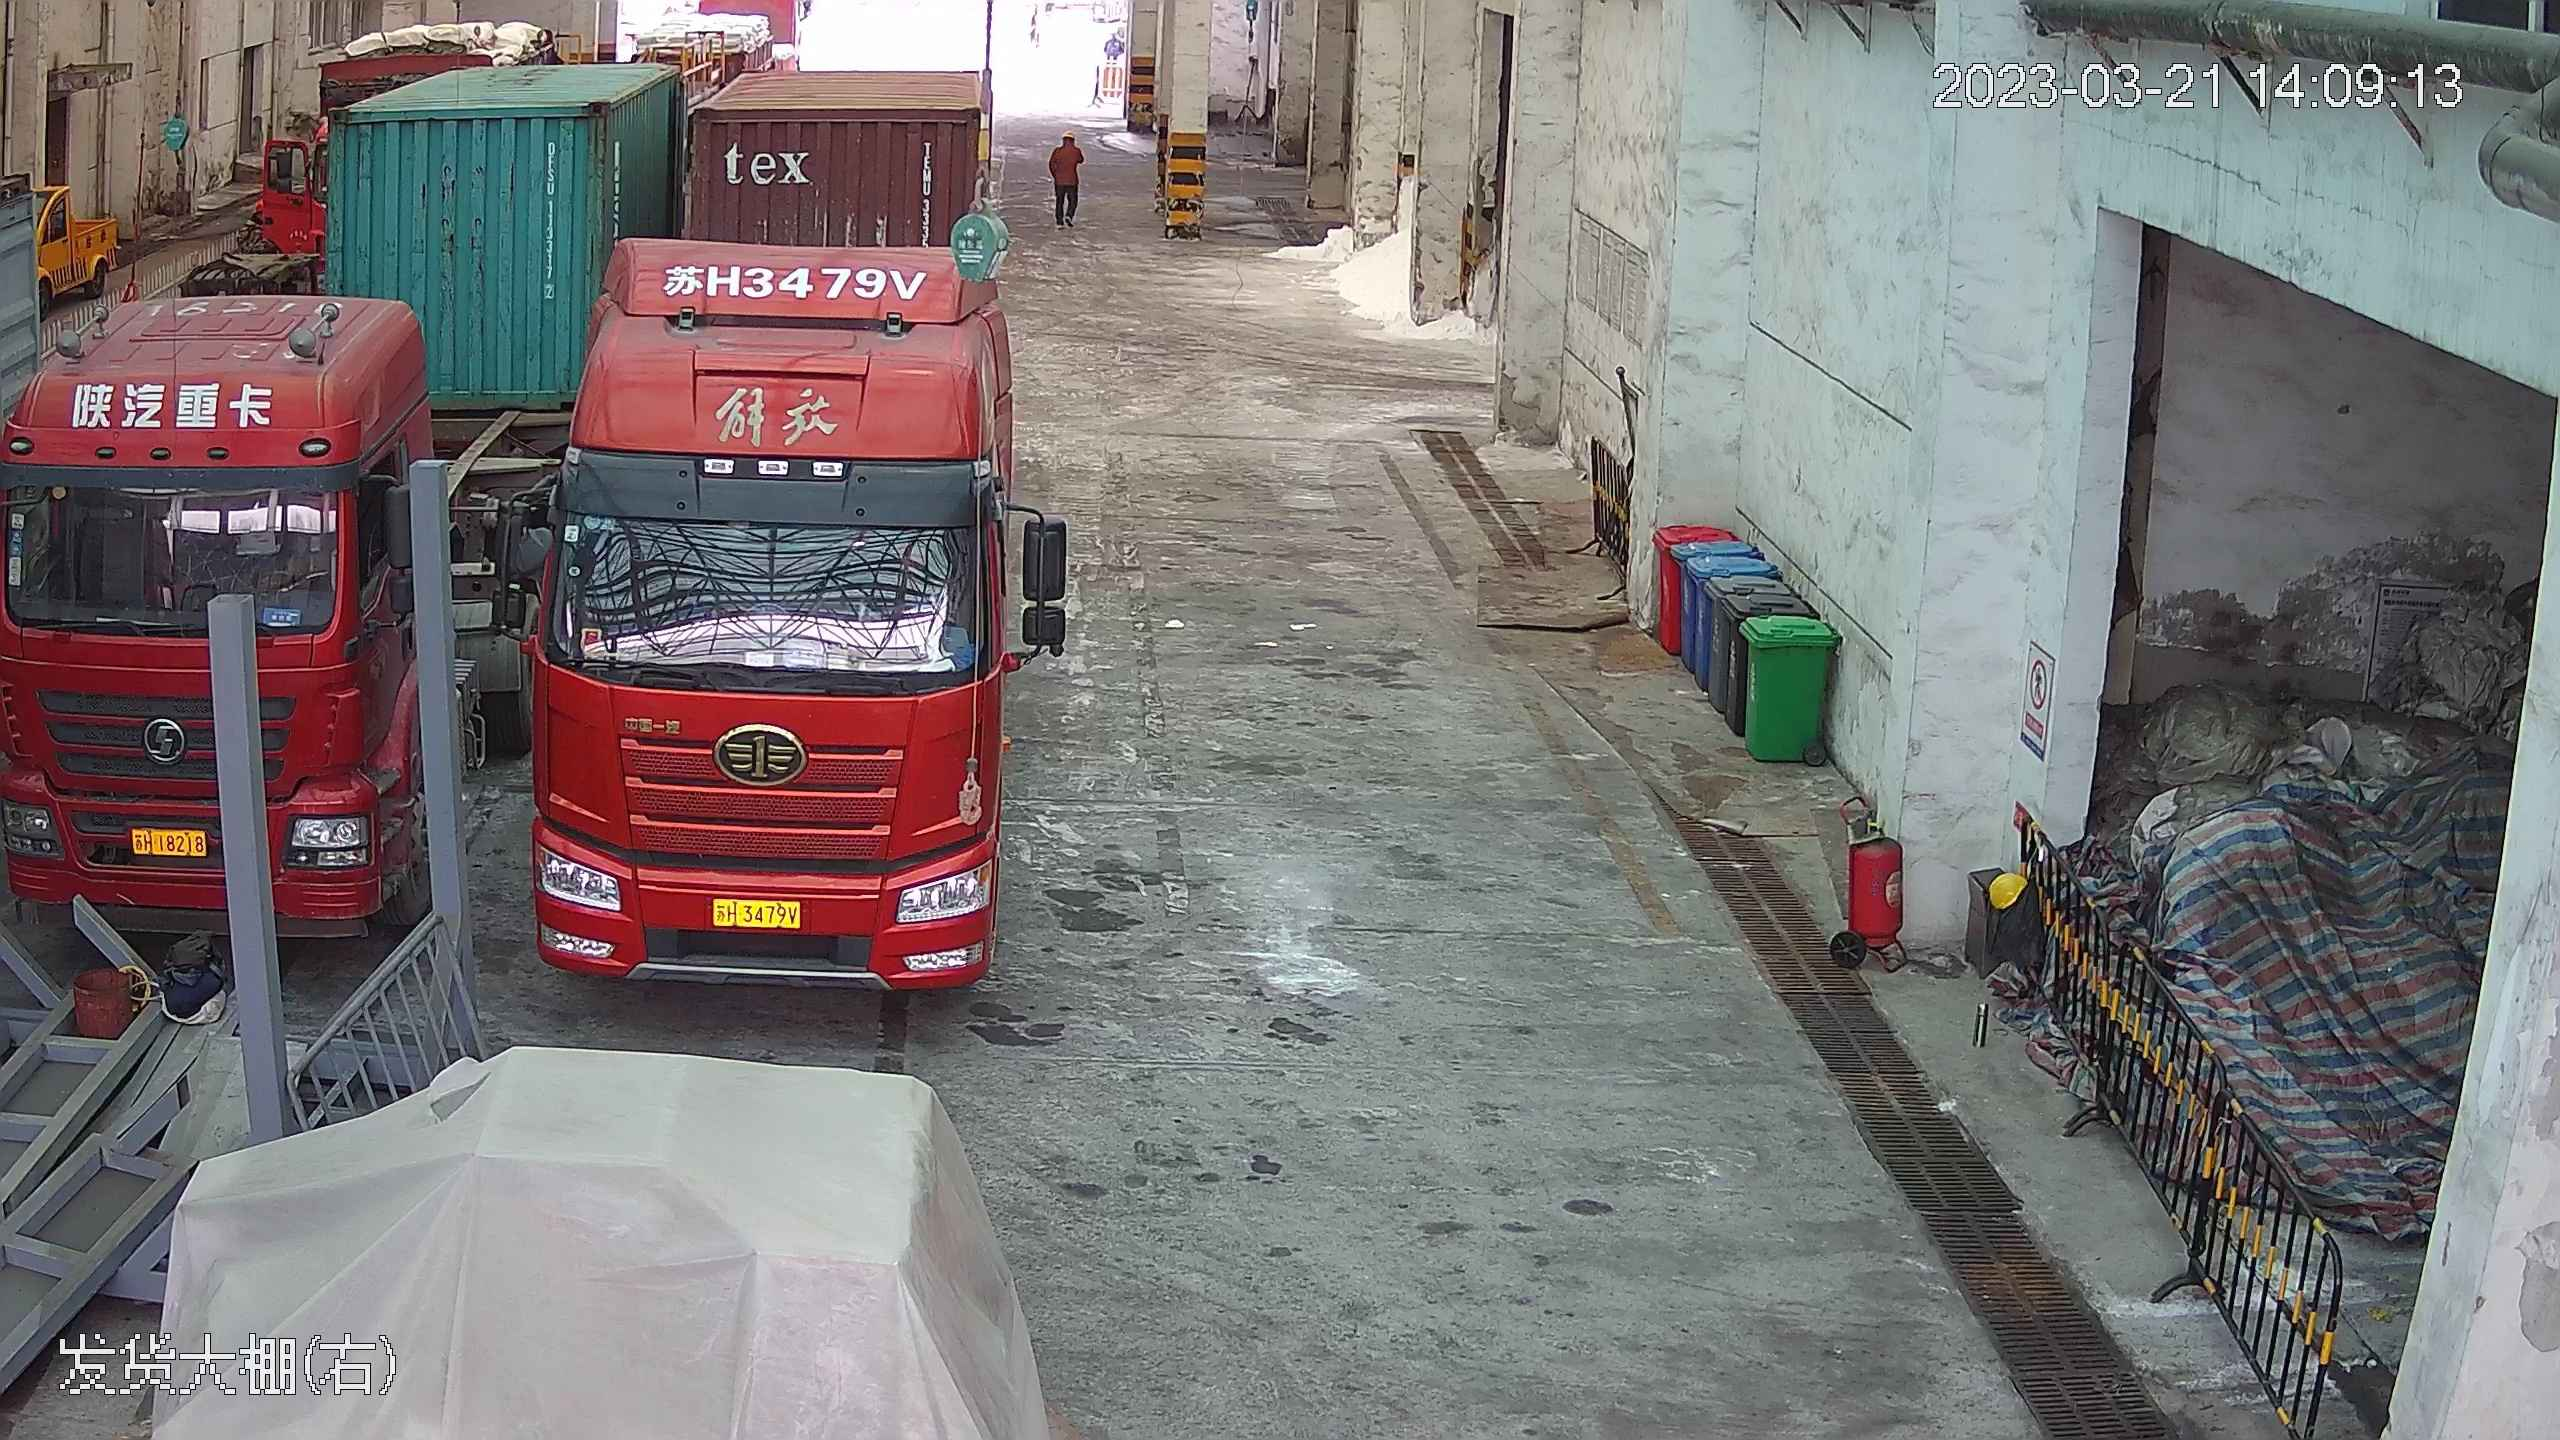head: (1050, 124, 1083, 161)
helmet: (1985, 866, 2029, 913), (1061, 129, 1078, 142)
people: (1045, 121, 1087, 235)
truck: (506, 28, 1045, 995), (1, 24, 495, 963)
